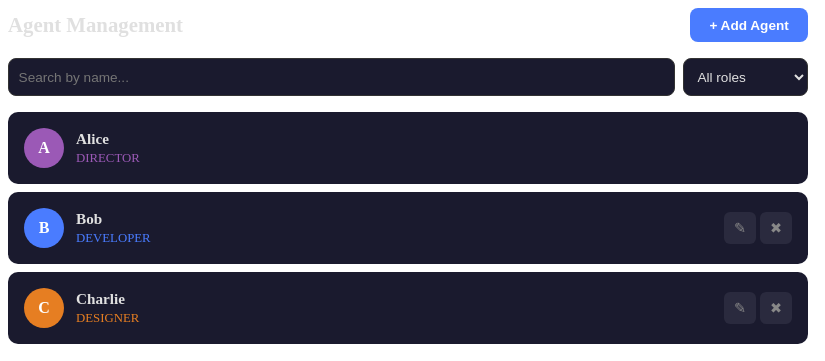
Test case: AgentsPage › filters by name
Expected: the text "Alice" is shown, left=76, top=130, right=109, bottom=147
Type "Bob" into the field with placeholder "Search by name...". click: (341, 77)
box: left=8, top=58, right=675, bottom=96
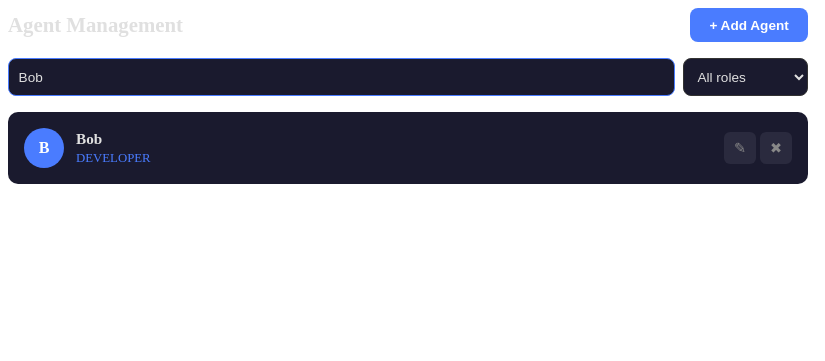
Expected: the text "Bob" is shown, left=76, top=130, right=102, bottom=147
Expected: the text "Alice" is gone
